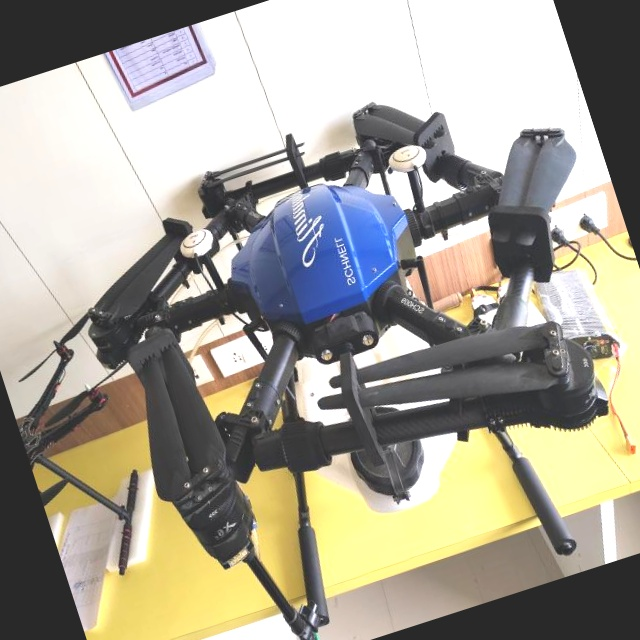agriculturedrone: (1, 35, 640, 640)
